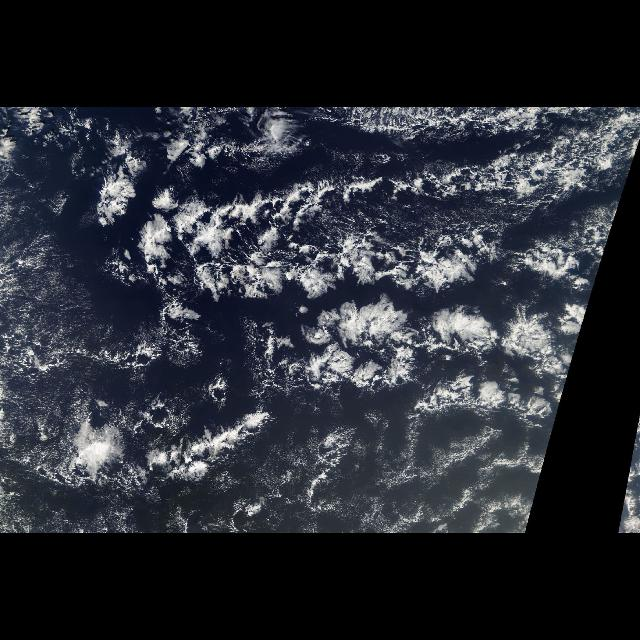Fish: (77, 152, 613, 392), (46, 403, 282, 489)
Flower: (132, 199, 588, 479)
